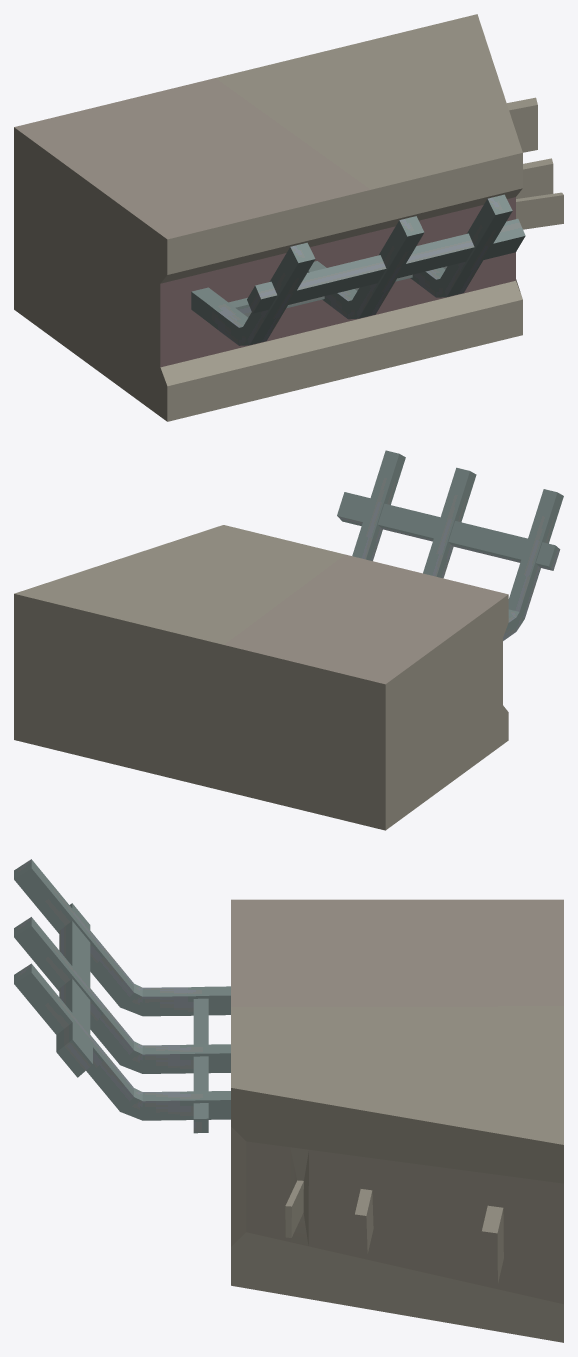
The model's file is 183_LowwallPiece3mILITARY.gltf.
The picture shows the model from 3 angles, top to bottom: view 1: azimuth 30°, elevation 25°; view 2: azimuth 150°, elevation 25°; view 3: azimuth 270°, elevation 25°; orthographic projection. The views are drawn at different scales.
Parts seen in each view (by area): view 1: LowwallPiece3mILITARY; view 2: LowwallPiece3mILITARY; view 3: LowwallPiece3mILITARY.
Boxes of the visible parts, x1,y1,x2,y2 form: LowwallPiece3mILITARY: (14, 14, 563, 421); LowwallPiece3mILITARY: (14, 450, 563, 830); LowwallPiece3mILITARY: (14, 859, 563, 1342).
Size of the model in its own units: 10.11 by 4.61 by 9.03.
1 material, 1 textured.
